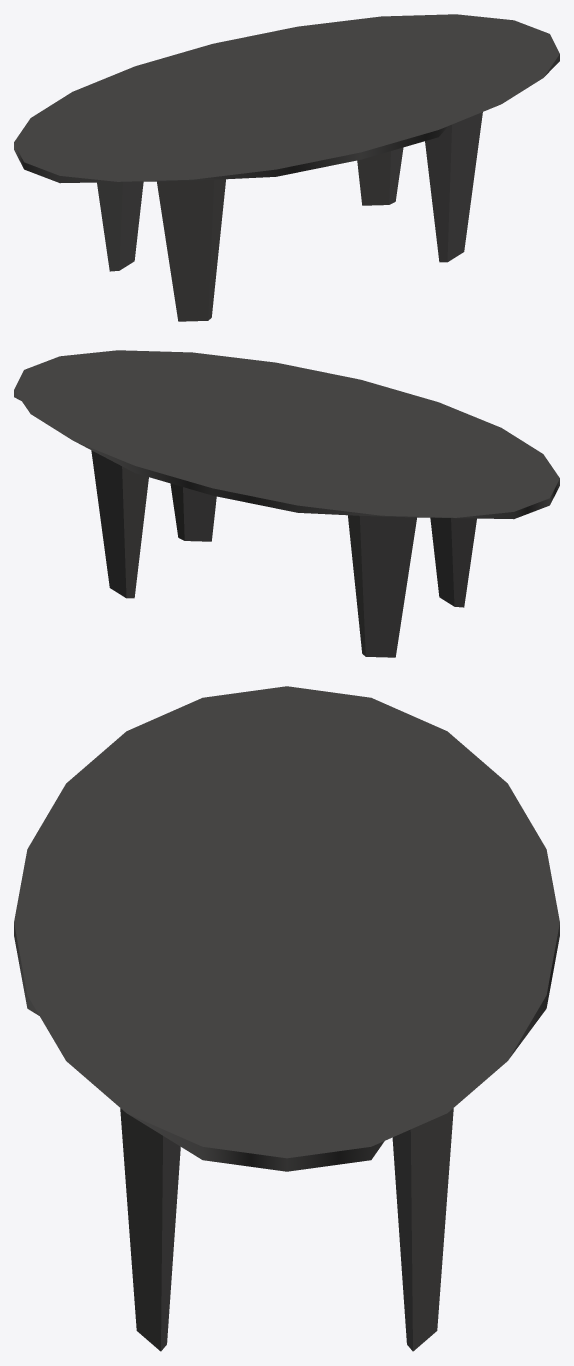
Rendered from table1.fbx.
The picture shows the model from 3 angles, top to bottom: view 1: azimuth 30°, elevation 25°; view 2: azimuth 150°, elevation 25°; view 3: azimuth 270°, elevation 25°; orthographic projection. The views are drawn at different scales.
Visible parts, largest first — view 1: table_2; view 2: table_2; view 3: table_2.
Boxes of the visible parts, bbox=[...] form: table_2: bbox=[14, 14, 559, 321]; table_2: bbox=[14, 350, 559, 657]; table_2: bbox=[14, 686, 559, 1351].
Size of the model in its own units: 386 by 115 by 189.
